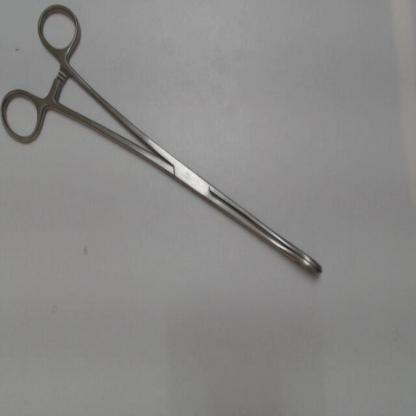Sponge Forceps: (0, 0, 331, 285)
